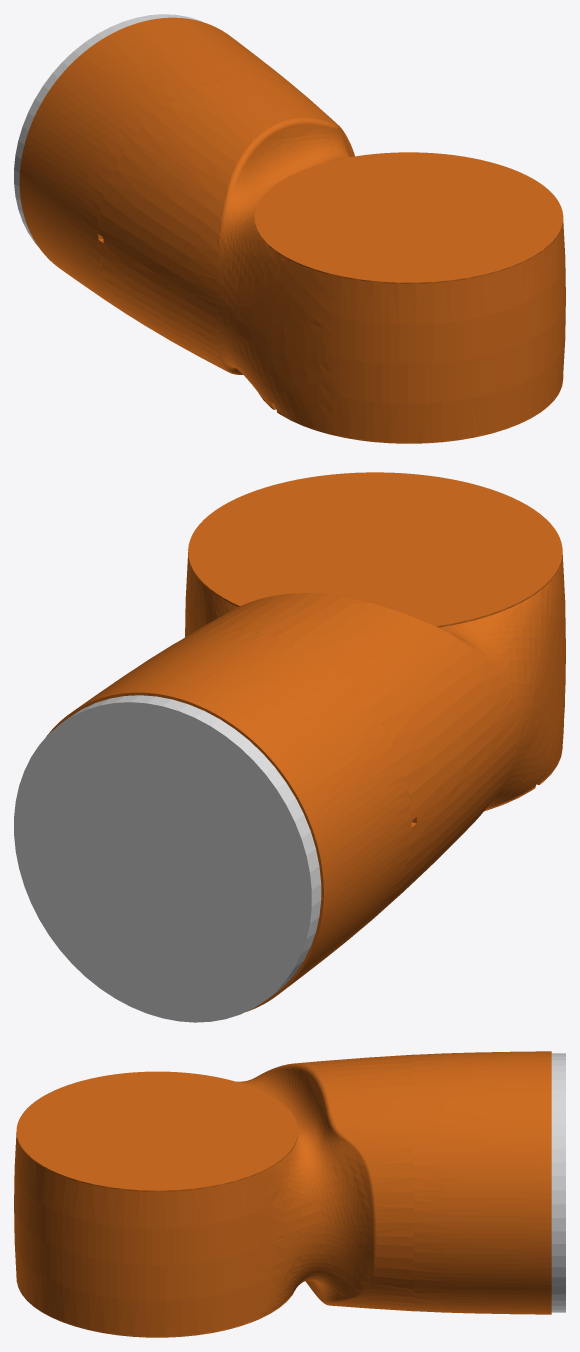
3 renders of one model, top to bottom at view 1: azimuth 30°, elevation 25°; view 2: azimuth 150°, elevation 25°; view 3: azimuth 270°, elevation 25°, orthographic. The views are drawn at different scales.
Parts seen in each view (by area): view 1: Link3; view 2: Link3; view 3: Link3.
Boxes of the visible parts, x1,y1,x2,y2 form: Link3: (14,14,565,443); Link3: (14,472,565,1022); Link3: (14,1051,565,1337).
Size of the model in its own units: 0.1146 by 0.0925 by 0.1939.
